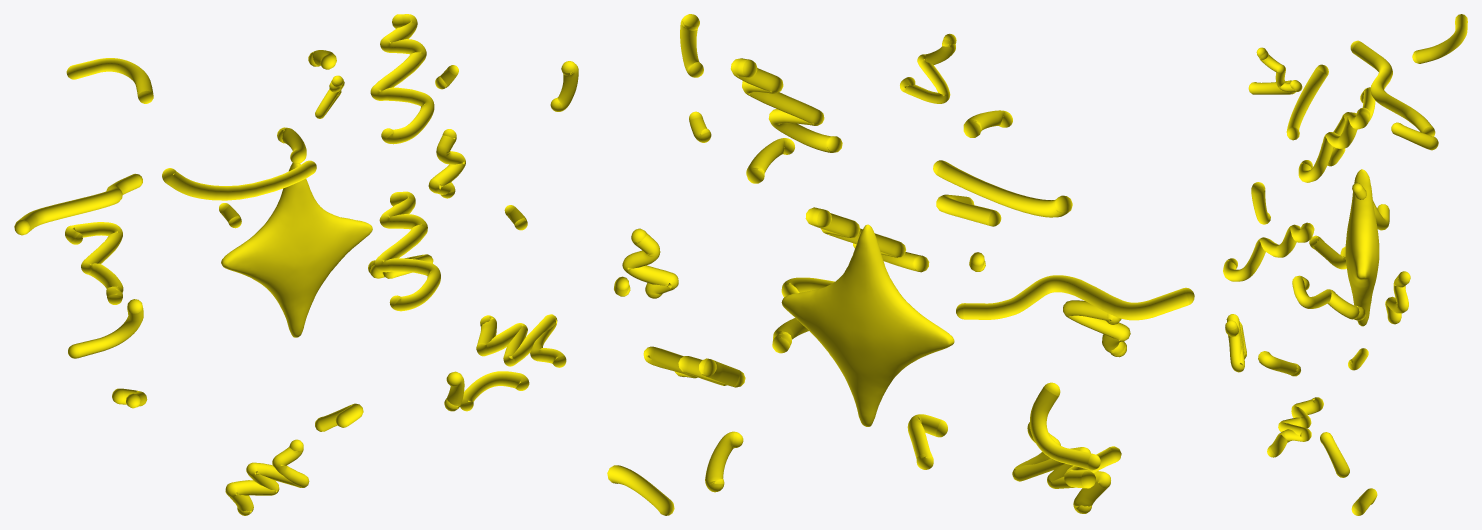
File: sparkling_star.obj
3 views of the same model, side by side, from view 1: azimuth 30°, elevation 25°; view 2: azimuth 150°, elevation 25°; view 3: azimuth 270°, elevation 25° (orthographic). The views are drawn at different scales.
Parts seen in each view (by area): view 1: obj23, obj18, obj7, obj6, obj17, obj13, obj19, obj14, obj21, obj10, obj11, obj12 (+3 smaller); view 2: obj23, obj14, obj18, obj13, obj7, obj17, obj10, obj6, obj11, obj19, obj22, obj8 (+8 smaller); view 3: obj23, obj14, obj7, obj18, obj6, obj8, obj13, obj21, obj17, obj11, obj22, obj15 (+8 smaller).
Part boxes in pixels (x1,y1,x2,y2): obj23: [221, 163, 372, 337]; obj18: [370, 14, 434, 144]; obj7: [374, 191, 440, 311]; obj6: [476, 314, 566, 367]; obj17: [225, 439, 309, 515]; obj13: [162, 160, 316, 200]; obj19: [65, 222, 123, 304]; obj14: [14, 173, 142, 235]; obj21: [66, 58, 153, 103]; obj10: [68, 299, 143, 358]; obj11: [428, 129, 465, 198]; obj12: [460, 371, 529, 411]; obj23: [781, 224, 954, 426]; obj14: [956, 275, 1194, 320]; obj18: [730, 58, 842, 152]; obj13: [933, 160, 1072, 217]; obj7: [805, 207, 929, 272]; obj17: [1012, 422, 1110, 513]; obj10: [1030, 382, 1100, 470]; obj6: [643, 346, 745, 387]; obj11: [622, 228, 678, 298]; obj19: [1063, 300, 1130, 357]; obj22: [900, 33, 956, 103]; obj8: [772, 277, 834, 353]; obj23: [1345, 169, 1379, 326]; obj14: [1350, 40, 1435, 136]; obj7: [1223, 222, 1314, 281]; obj18: [1298, 107, 1370, 182]; obj6: [1267, 397, 1323, 457]; obj8: [1292, 275, 1365, 320]; obj13: [1286, 64, 1328, 140]; obj21: [1412, 14, 1467, 63]; obj17: [1225, 314, 1246, 372]; obj11: [1385, 271, 1410, 324]; obj22: [1256, 47, 1302, 92]; obj15: [1391, 122, 1438, 150].
Size of the model in its own units: 0.8799 by 0.696 by 0.4114.
